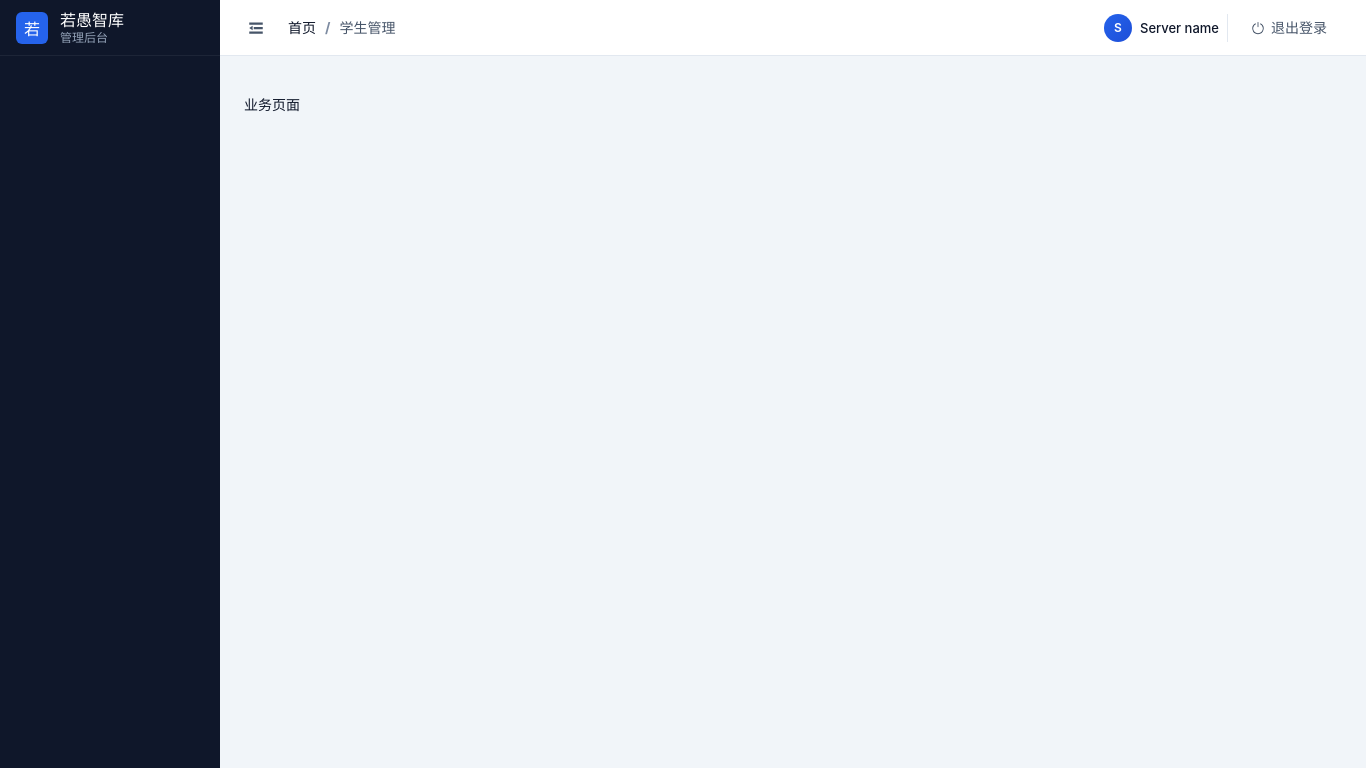
Test case: server-session application shell › keeps a still-valid local session visible with an unknown exit result after disconnect
Click the button "退出登录". click: point(1289, 28)
box: [1236,12,1342,44]
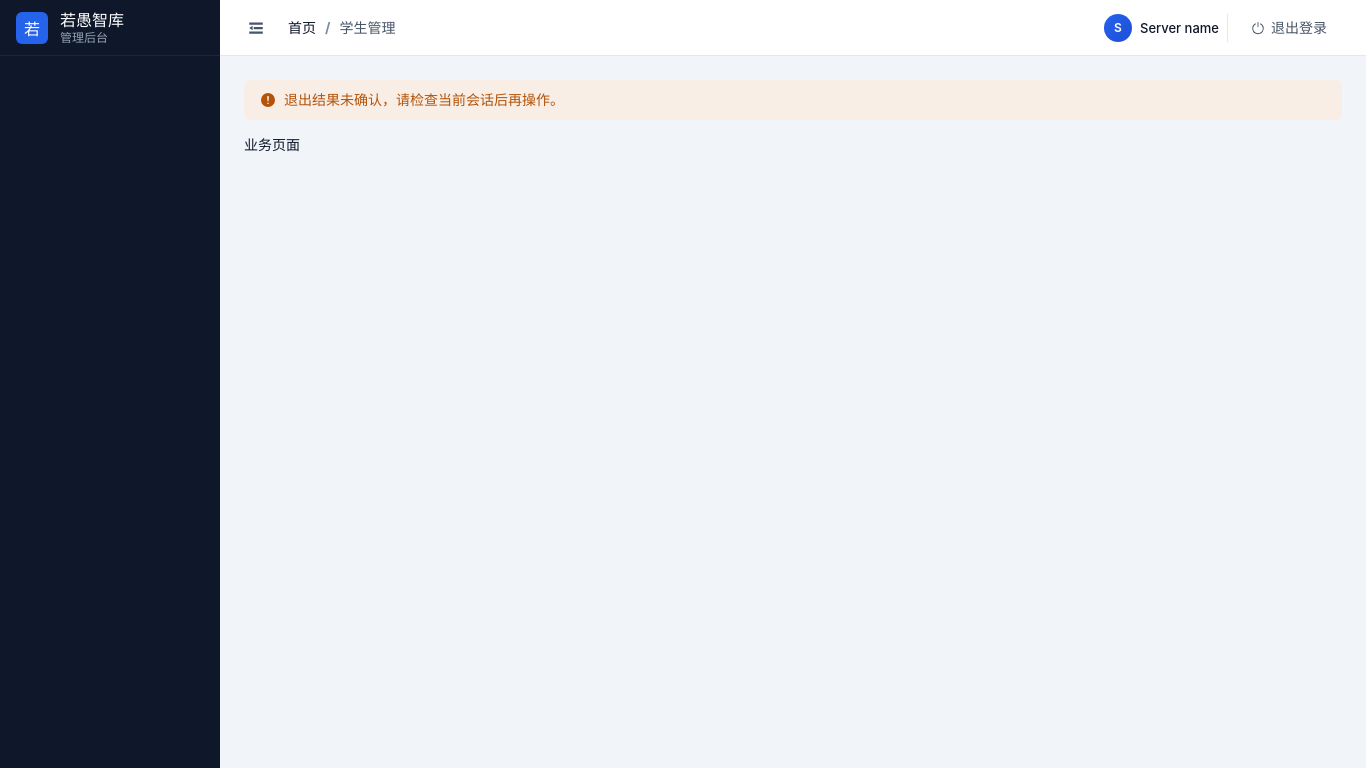
Now the text "退出结果未确认" is shown, box [284,91,564,108]
